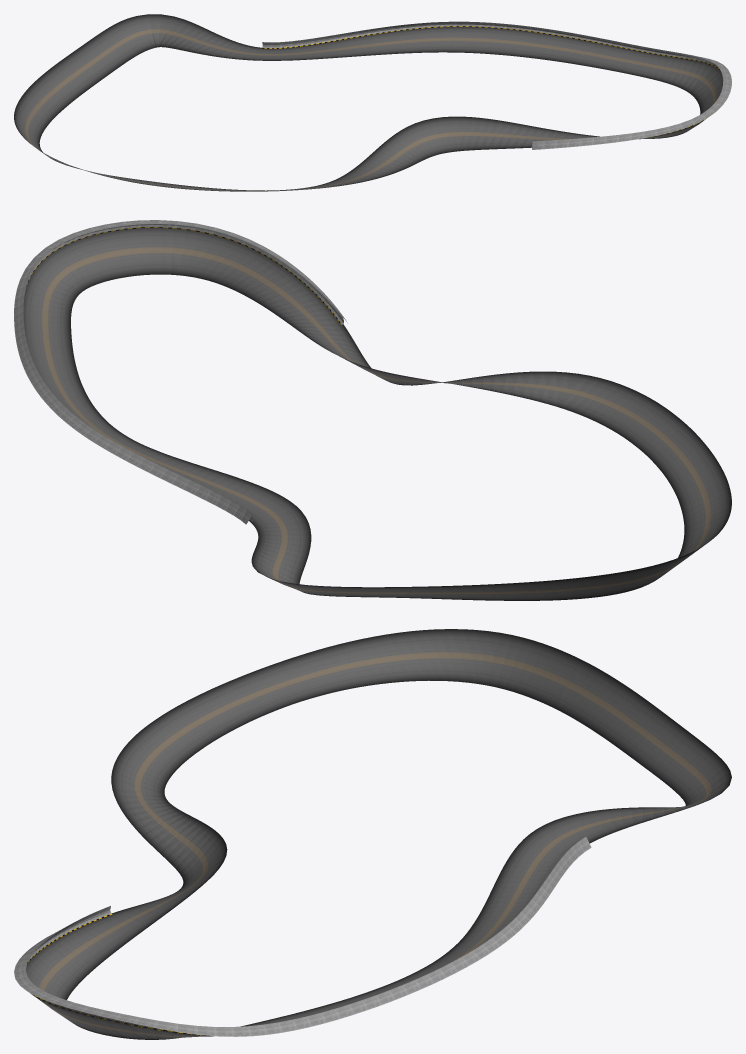
The model's file is Track.obj.
3 views of the same model, one above another, from view 1: azimuth 30°, elevation 25°; view 2: azimuth 150°, elevation 25°; view 3: azimuth 270°, elevation 25° (orthographic). The views are drawn at different scales.
Visible parts, largest first — view 1: TrackMeshPart.001_Plane.005, CurbBig2.002_Cube.001; view 2: TrackMeshPart.001_Plane.005, CurbBig2.002_Cube.001; view 3: TrackMeshPart.001_Plane.005, CurbBig2.002_Cube.001.
Part boxes in pixels (left/top/right/bottom): TrackMeshPart.001_Plane.005: left=14, top=14, right=723, bottom=191; CurbBig2.002_Cube.001: left=262, top=21, right=731, bottom=149; TrackMeshPart.001_Plane.005: left=23, top=227, right=731, bottom=600; CurbBig2.002_Cube.001: left=14, top=220, right=347, bottom=524; TrackMeshPart.001_Plane.005: left=26, top=629, right=731, bottom=1039; CurbBig2.002_Cube.001: left=14, top=837, right=591, bottom=1036.
Size of the model in its own units: 74.01 by 4.2 by 55.05.
2 materials, 2 textured.
